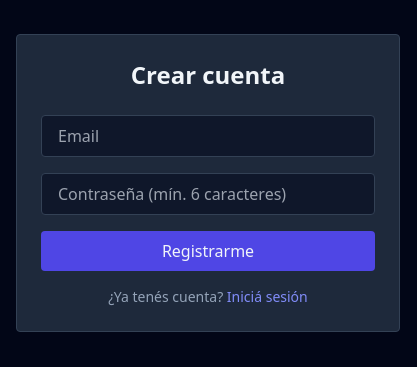
it: RegisterPage › muestra el error si el email ya está registrado
Type "repetido@test.com" into the field with placeholder "Email" at point(208, 136), box x1=41 y1=115 x2=375 y2=157
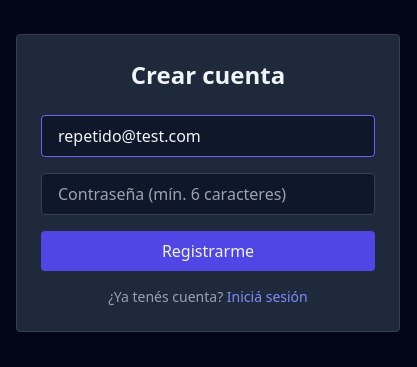
Type "123456" into the password field with placeholder "Contraseña (mín. 6 caracteres)" at point(208, 194), box x1=41 y1=173 x2=375 y2=215
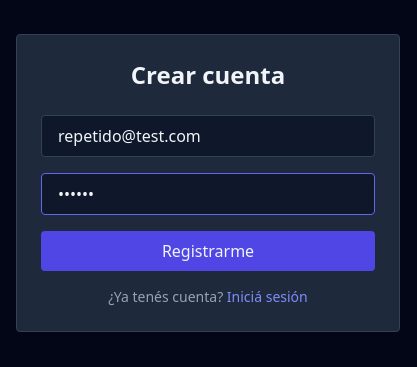
Click the button "Registrarme" at point(208, 251), box x1=41 y1=231 x2=375 y2=271
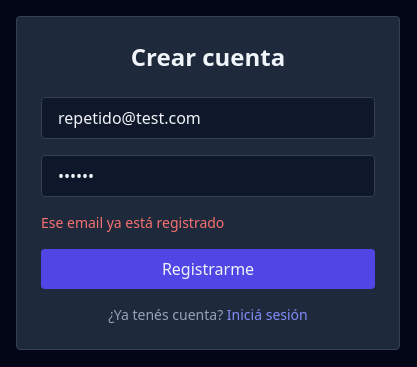
Expected: the text "Ese email ya está registrado" is shown, x1=41 y1=213 x2=224 y2=232
